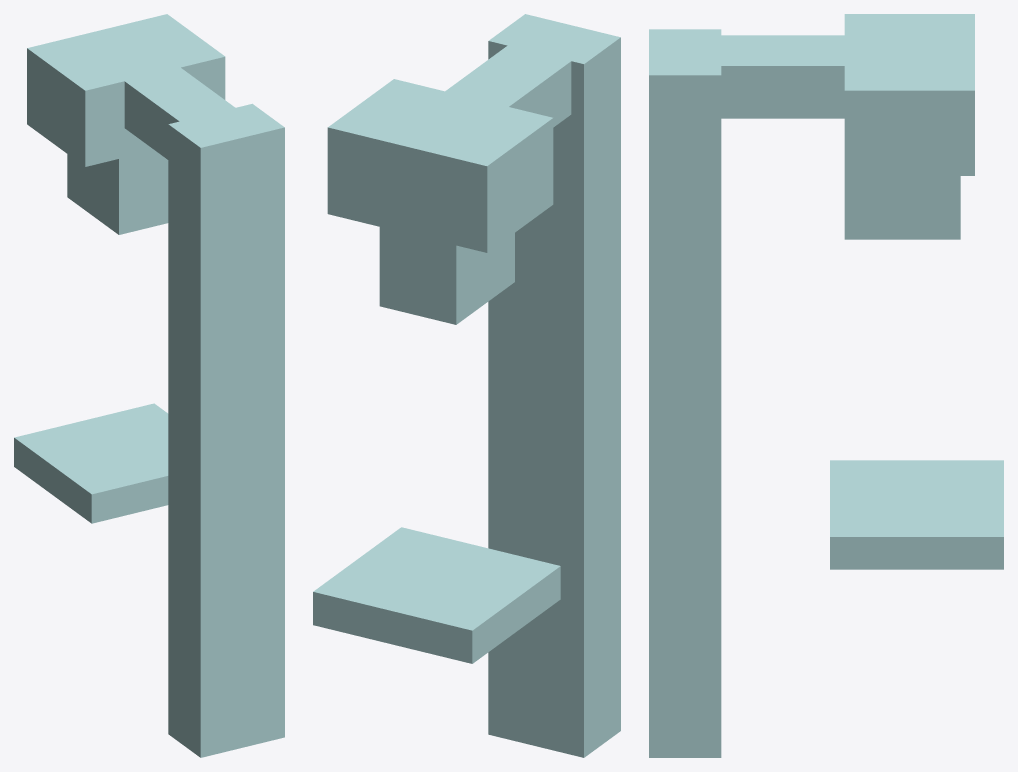
Rendered from x-ray_machine.glb.
3 views of the same model, side by side, from view 1: azimuth 30°, elevation 25°; view 2: azimuth 150°, elevation 25°; view 3: azimuth 270°, elevation 25° (orthographic). The views are drawn at different scales.
Visible parts, largest first — view 1: machine; view 2: machine; view 3: machine.
Part boxes in pixels (bbox=[...]): machine: bbox=[14, 14, 284, 757]; machine: bbox=[313, 14, 620, 757]; machine: bbox=[649, 14, 1003, 757].
Bounding box in the file's own units: 5 × 20.8 × 9.8.
